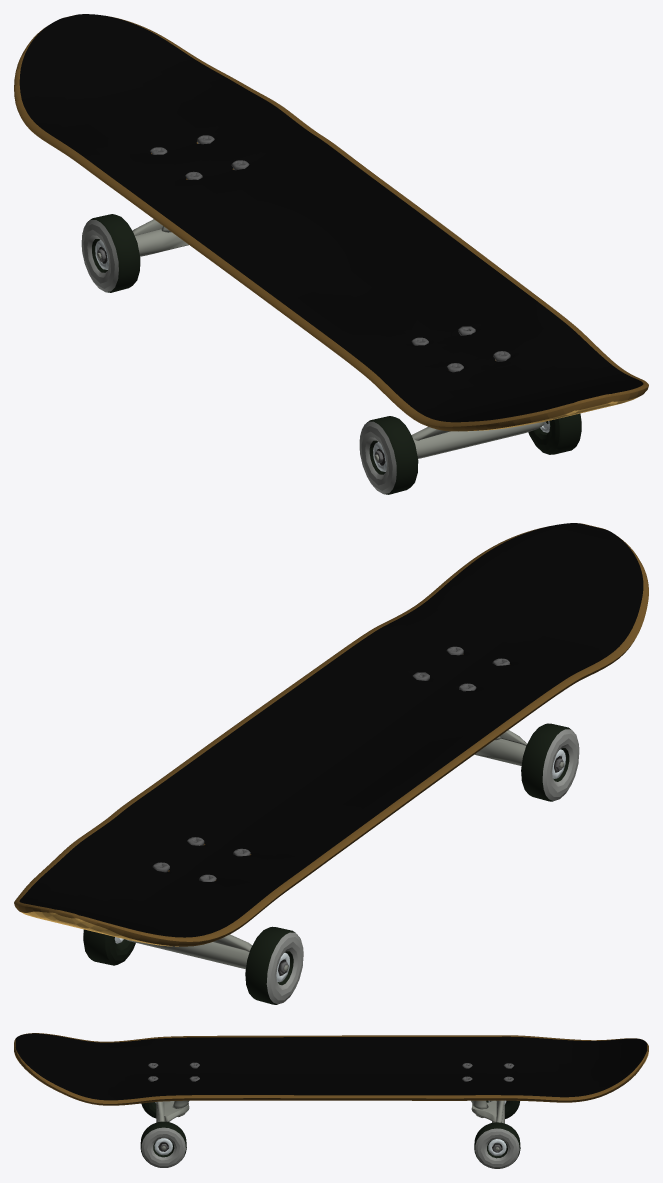
Rendered from skate_mod_0003_lp.fbx.
The picture shows the model from 3 angles, top to bottom: view 1: azimuth 30°, elevation 25°; view 2: azimuth 150°, elevation 25°; view 3: azimuth 270°, elevation 25°; orthographic projection. The views are drawn at different scales.
Parts seen in each view (by area): view 1: desk, truck2_wheel2, truck1_wheel2, truck1_lower, truck1_wheel1, truck2_lower; view 2: desk, truck1_wheel2, truck2_wheel2, truck2_lower, truck2_wheel1, truck1_lower; view 3: desk, truck1_wheel1, truck2_wheel1, truck2_lower, truck1_lower, truck2_wheel2.
Part boxes in pixels (box(x1,y1,x2,y2)): desk: box(14, 14, 648, 431); truck2_wheel2: box(81, 214, 140, 292); truck1_wheel2: box(359, 416, 418, 494); truck1_lower: box(374, 421, 544, 461); truck1_wheel1: box(528, 413, 581, 454); truck2_lower: box(97, 219, 188, 259); desk: box(14, 523, 648, 946); truck1_wheel2: box(521, 723, 579, 801); truck2_wheel2: box(245, 926, 303, 1004); truck2_lower: box(126, 934, 288, 971); truck2_wheel1: box(83, 929, 135, 965); truck1_lower: box(474, 730, 564, 768); desk: box(14, 1033, 648, 1105); truck1_wheel1: box(140, 1121, 186, 1167); truck2_wheel1: box(474, 1122, 520, 1168); truck2_lower: box(471, 1100, 504, 1150); truck1_lower: box(156, 1100, 189, 1149); truck2_wheel2: box(486, 1100, 519, 1118).
Bounding box in the file's own units: 167 × 124 × 723.
